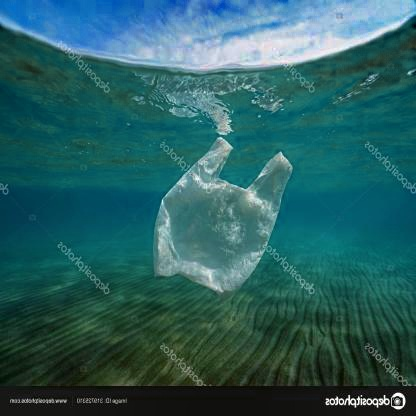pbag: (152, 135, 294, 301)
